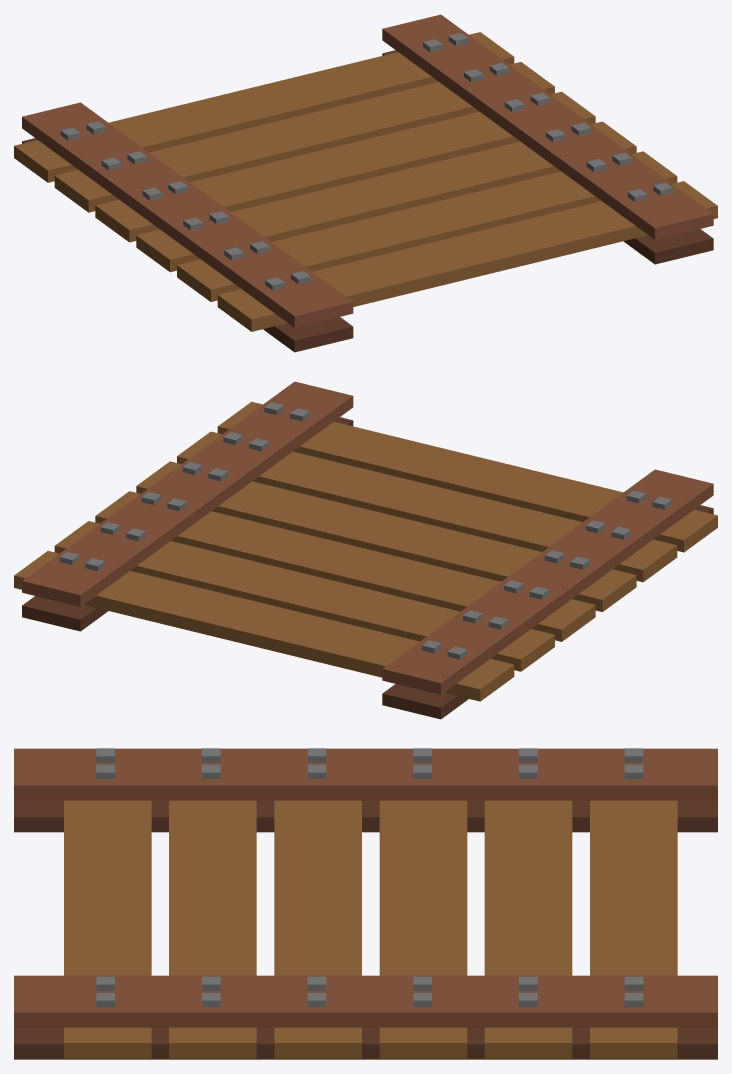
Rendered from Masdeiras.fbx.
3 views of the same model, one above another, from view 1: azimuth 30°, elevation 25°; view 2: azimuth 150°, elevation 25°; view 3: azimuth 270°, elevation 25° (orthographic). The views are drawn at different scales.
Visible parts, largest first — view 1: Cube; view 2: Cube; view 3: Cube.
Part boxes in pixels (x1,y1,x2,y2): Cube: [14, 14, 717, 352]; Cube: [14, 381, 717, 719]; Cube: [14, 748, 717, 1059].
Size of the model in its own units: 764 by 64.52 by 774.
